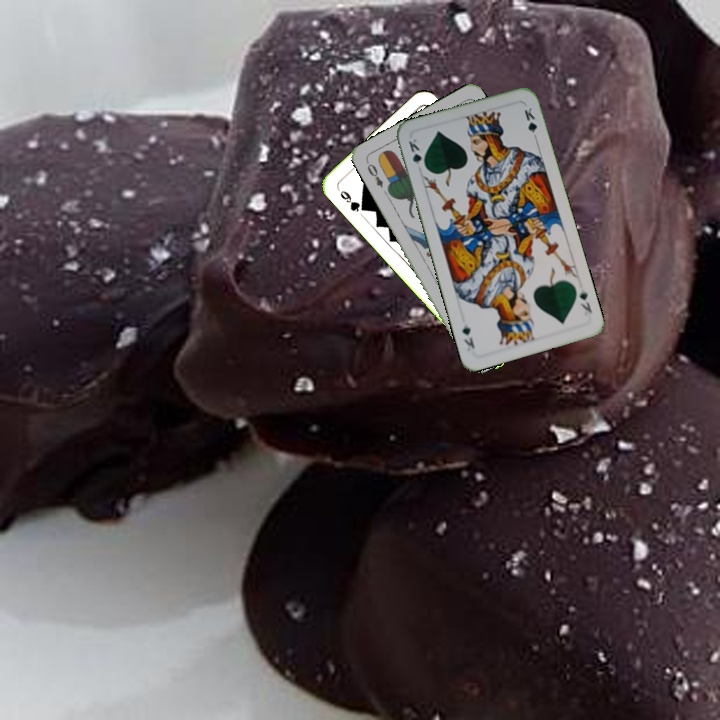EO: (362, 157, 386, 190)
G9: (334, 184, 368, 214)
GK: (404, 135, 429, 172), (575, 285, 595, 316)
